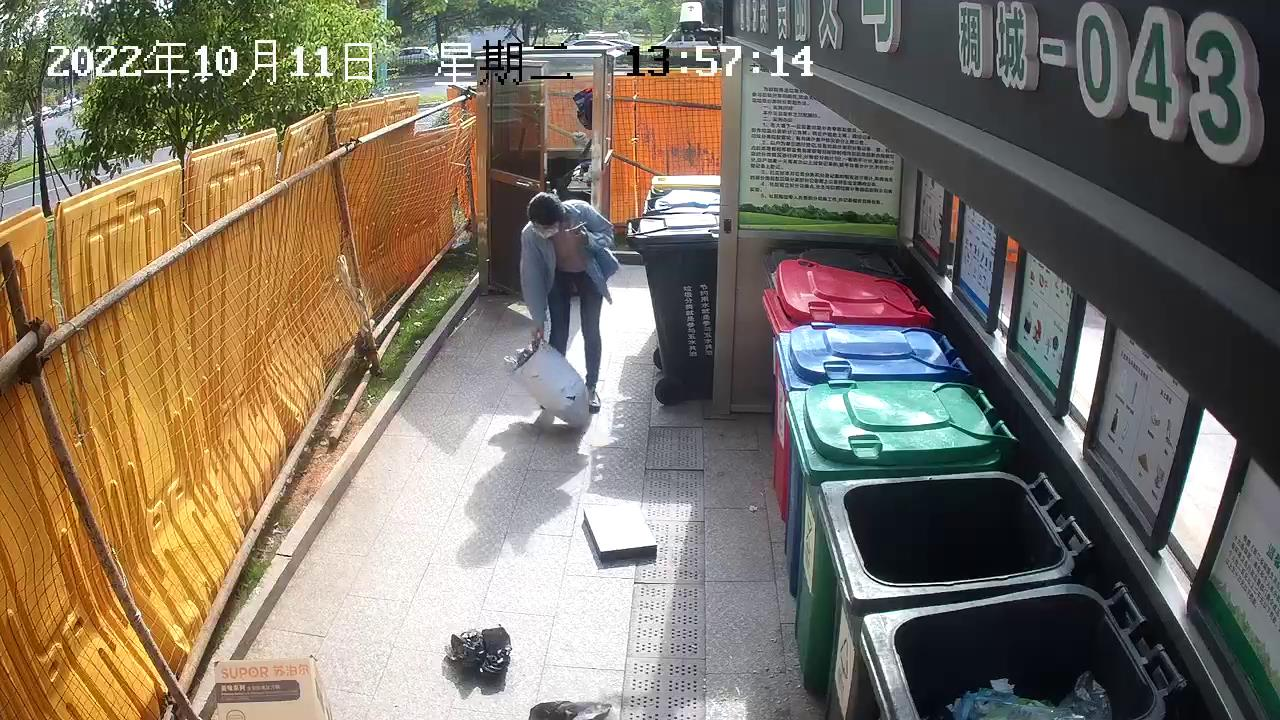garbage: (499, 333, 595, 435), (441, 620, 520, 681)
worker: (513, 187, 625, 419)
zhizhipin: (209, 651, 337, 720)
